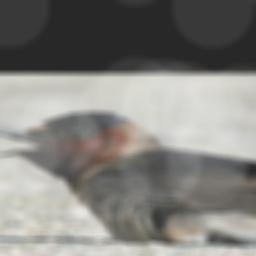Swallow: (0, 111, 256, 249)
